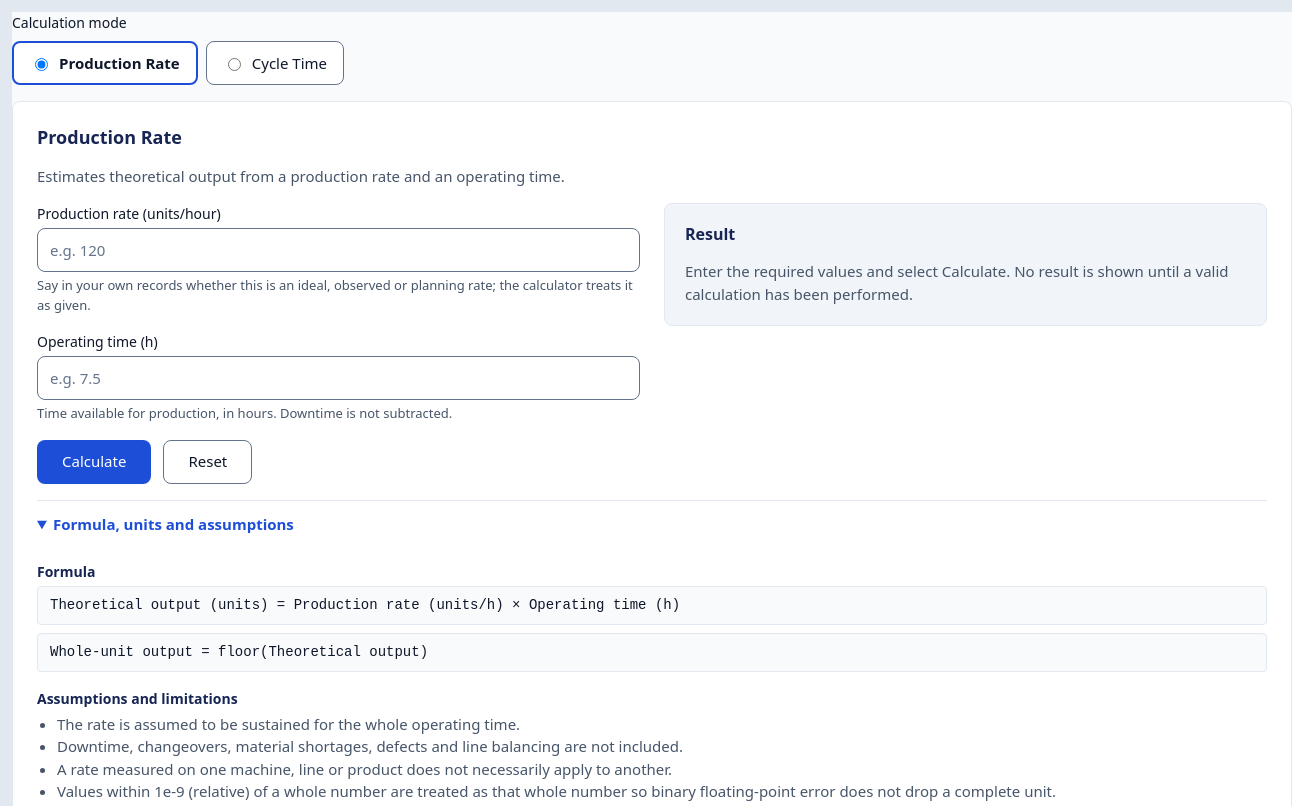
Test: CapacityPage › rate mode: 120 units/hour for 7.5 h gives 900 theoretical units
Type "120" into the field labelled "Production rate (units/hour)" at (338, 250), box [37,228,640,272]
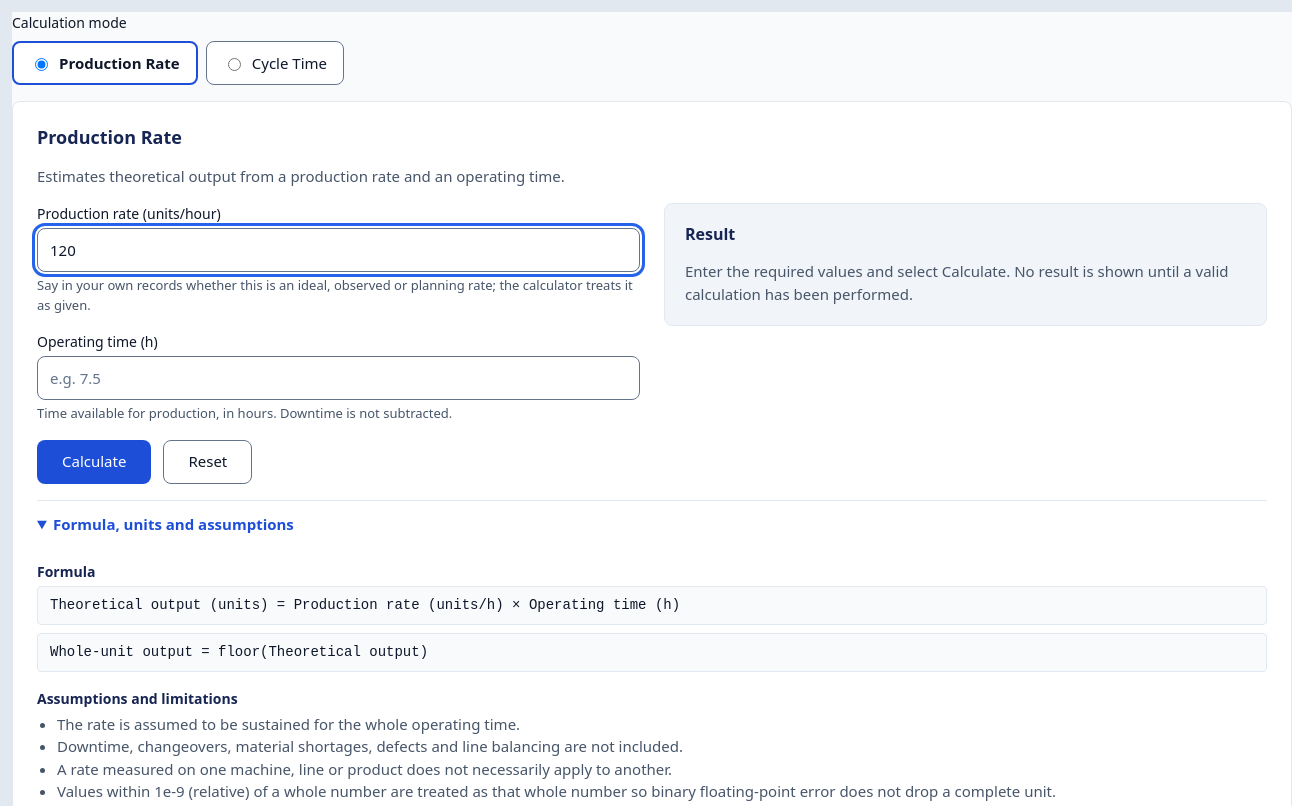
Type "7.5" into the field labelled "Operating time (h)" at (338, 378), box [37,356,640,400]
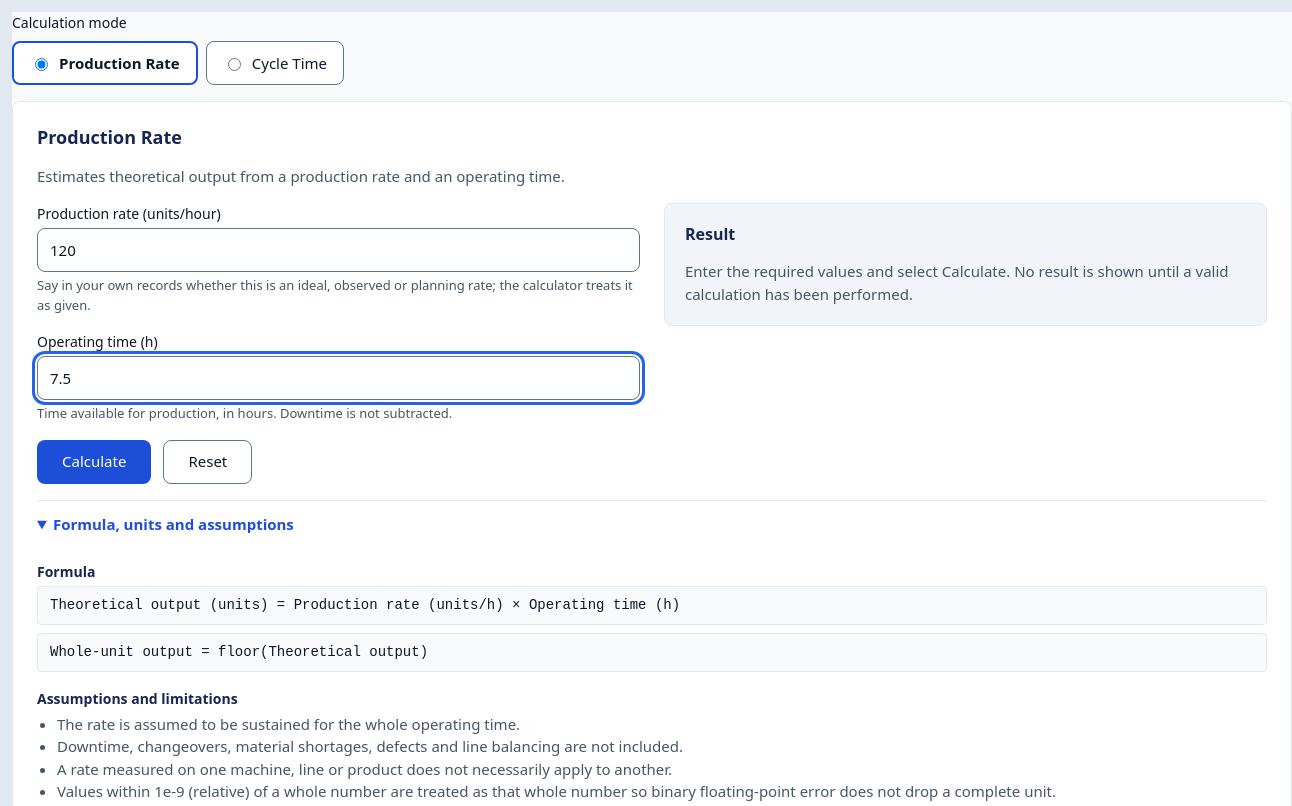
Click the button "Calculate" at (94, 462), box [37,440,151,484]
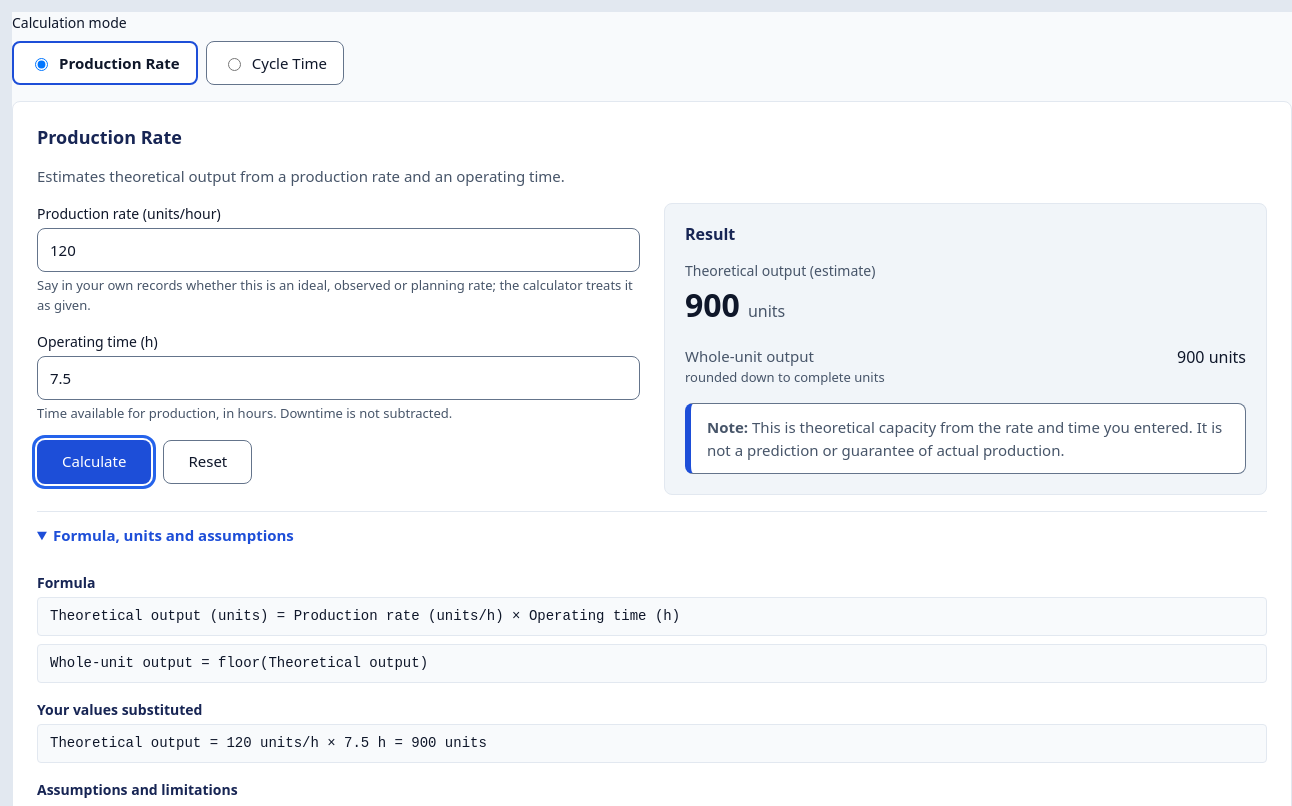
Now the text "900" is shown, box [685,283,740,326]
